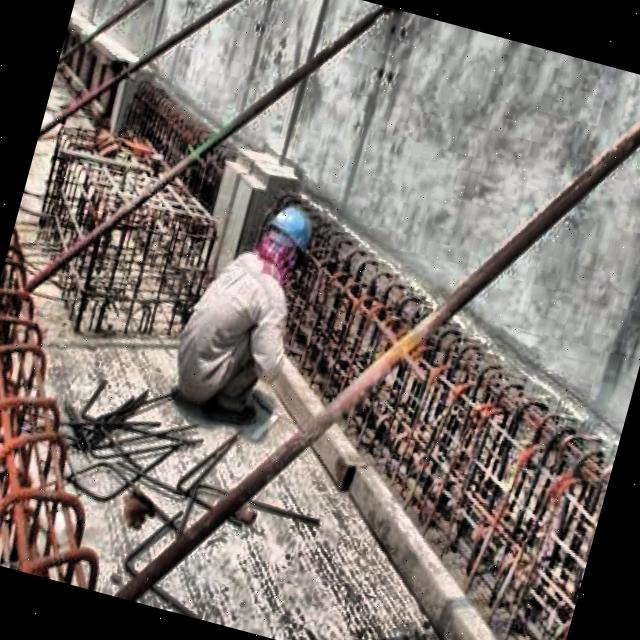helmet: (249, 193, 325, 284)
